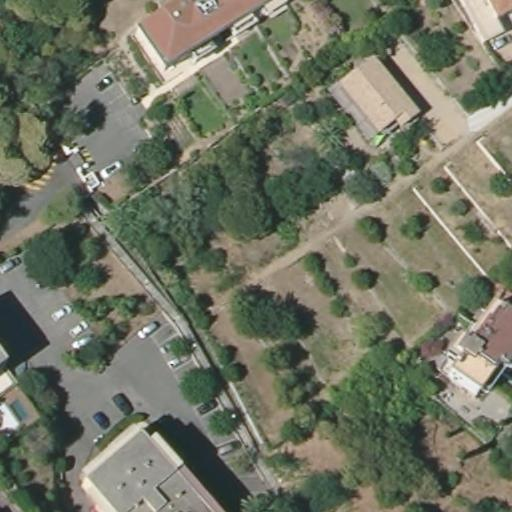pool: (8, 397, 31, 424)
